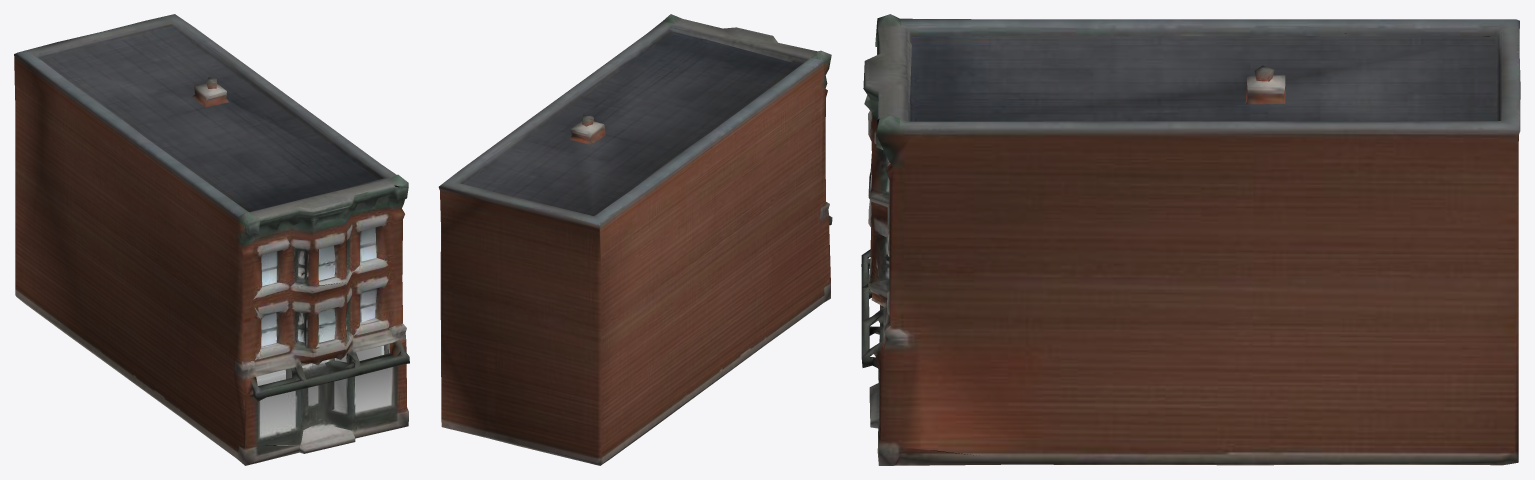
Rendered from gen_low2_brick_walkup.glb.
3 renders of one model, left to right at view 1: azimuth 30°, elevation 25°; view 2: azimuth 150°, elevation 25°; view 3: azimuth 270°, elevation 25°, orthographic. The views are drawn at different scales.
Parts seen in each view (by area): view 1: gen_low2_brick_walkup; view 2: gen_low2_brick_walkup; view 3: gen_low2_brick_walkup.
Part boxes in pixels (x1,y1,x2,y2): gen_low2_brick_walkup: [14, 14, 409, 465]; gen_low2_brick_walkup: [438, 14, 832, 465]; gen_low2_brick_walkup: [861, 14, 1520, 465].
Size of the model in its own units: 8 by 12 by 20.
Materials: 1 (1 with a texture image).
